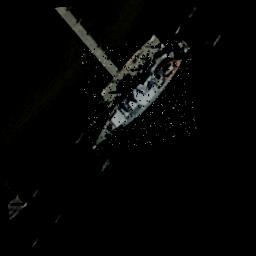boat: (80, 37, 200, 151)
